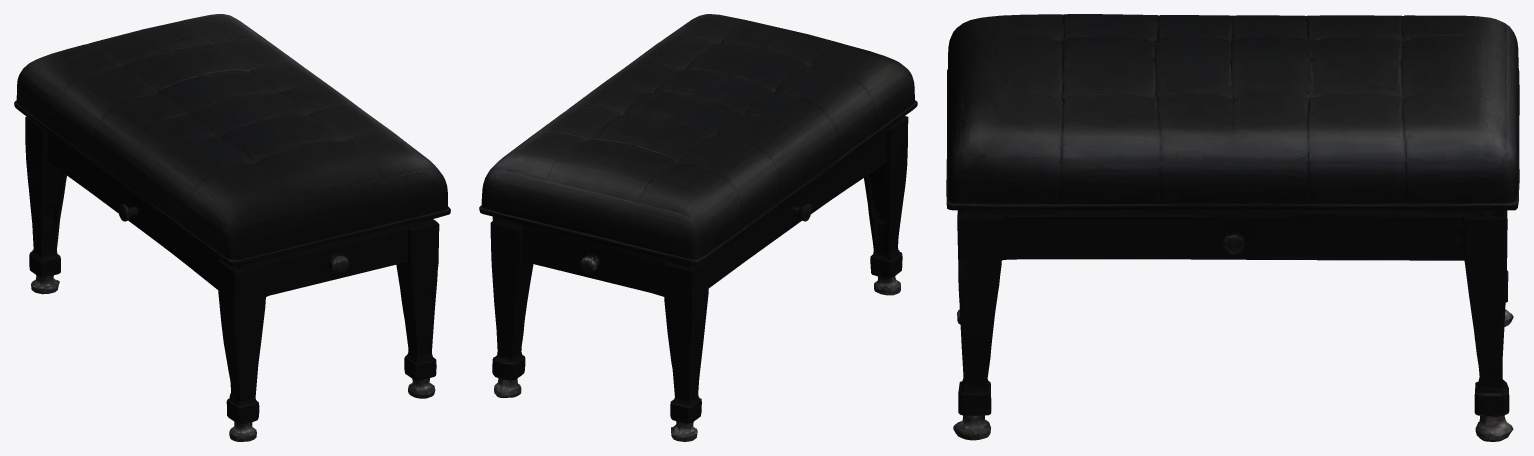
File: piano_bench_black.glb
3 views of the same model, side by side, from view 1: azimuth 30°, elevation 25°; view 2: azimuth 150°, elevation 25°; view 3: azimuth 270°, elevation 25° (orthographic). The views are drawn at different scales.
Visible parts, largest first — view 1: geometry_0; view 2: geometry_0; view 3: geometry_0.
Boxes of the visible parts, x1,y1,x2,y2 form: geometry_0: [14, 14, 450, 441]; geometry_0: [479, 14, 917, 441]; geometry_0: [946, 14, 1519, 441].
Bounding box in the file's own units: 0.5765 × 0.6083 × 0.9893.
1 material, 1 textured.
